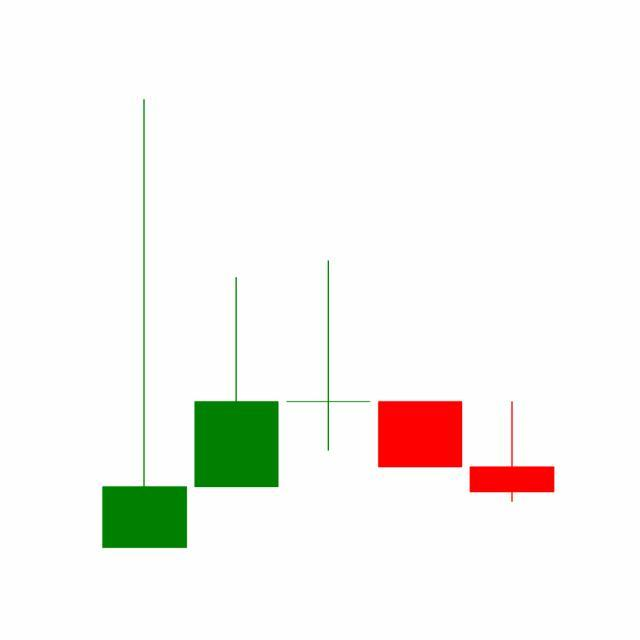Gravestone Doji: (466, 400, 559, 504)
